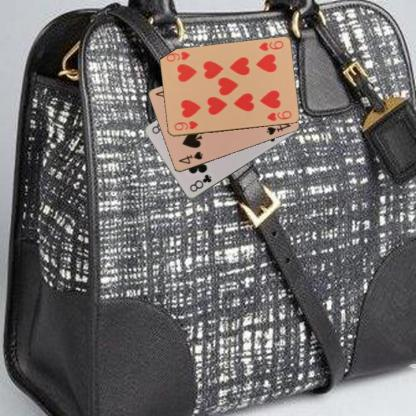4s: (176, 149, 204, 165)
8c: (186, 172, 212, 194)
9h: (256, 38, 284, 53), (172, 118, 199, 132)
